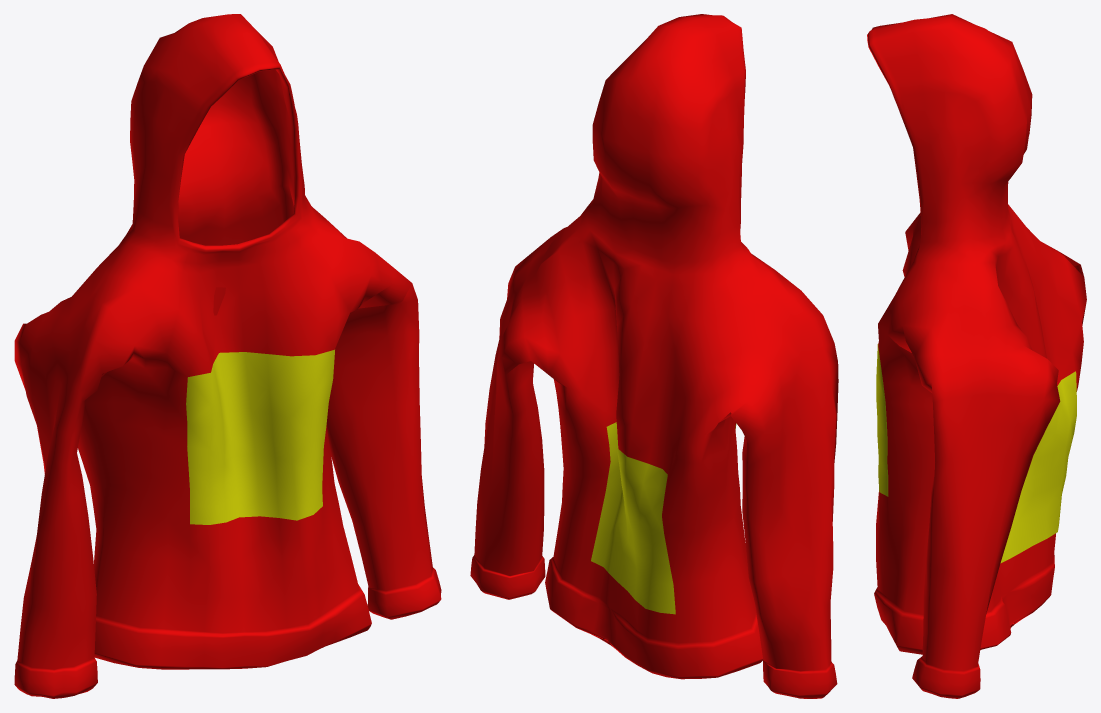
Rendered from coats_grp.fbx.
3 renders of one model, left to right at view 1: azimuth 30°, elevation 25°; view 2: azimuth 150°, elevation 25°; view 3: azimuth 270°, elevation 25°, orthographic. The views are drawn at different scales.
Parts seen in each view (by area): view 1: coat_1; view 2: coat_1; view 3: coat_1.
Part boxes in pixels (x1=…): coat_1: x1=14, y1=14, x2=441, y2=698; coat_1: x1=470, y1=14, x2=838, y2=698; coat_1: x1=867, y1=14, x2=1086, y2=698.
Bounding box in the file's own units: 59.08 × 92.62 × 30.44.
